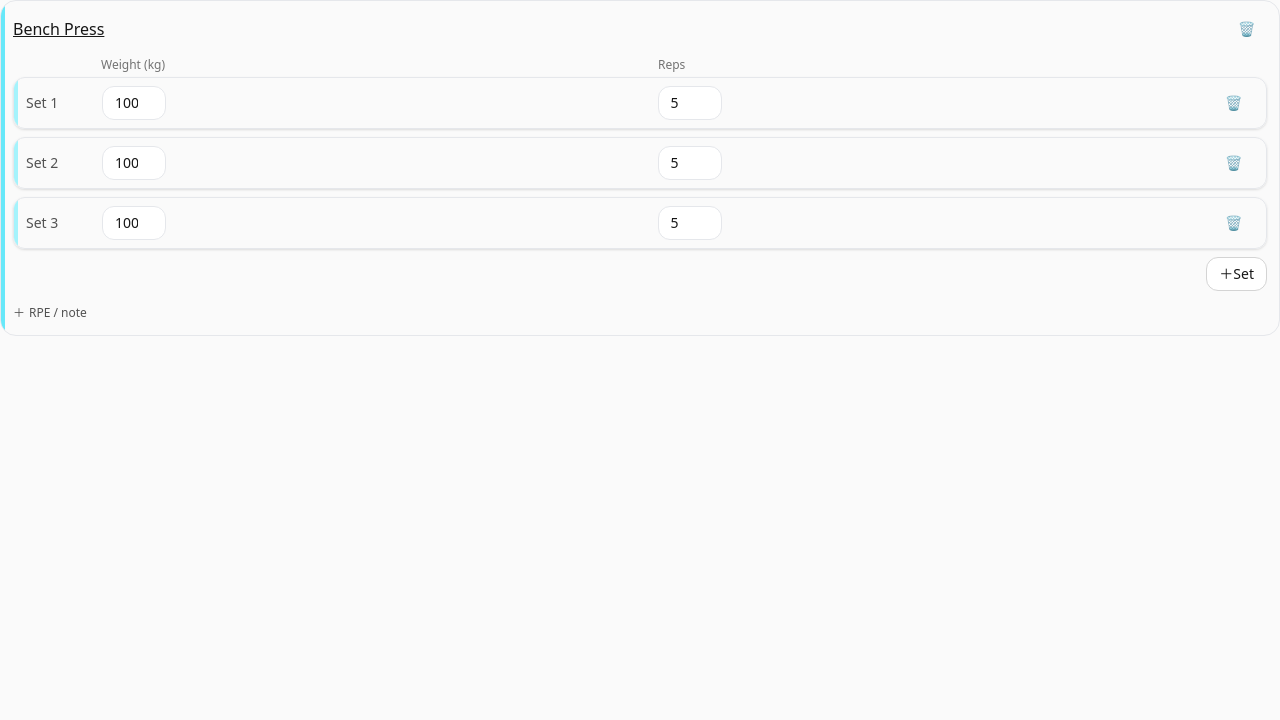
Test: WorkoutExerciseEditor › deletes a set through the confirm dialog and renumbers the rest
The width and height of the screenshot is (1280, 720).
What coordinates should you click on to do the following:
click the 2nd button "🗑"
I would click on:
 (1234, 103)
Its box is [1213,87,1254,119].
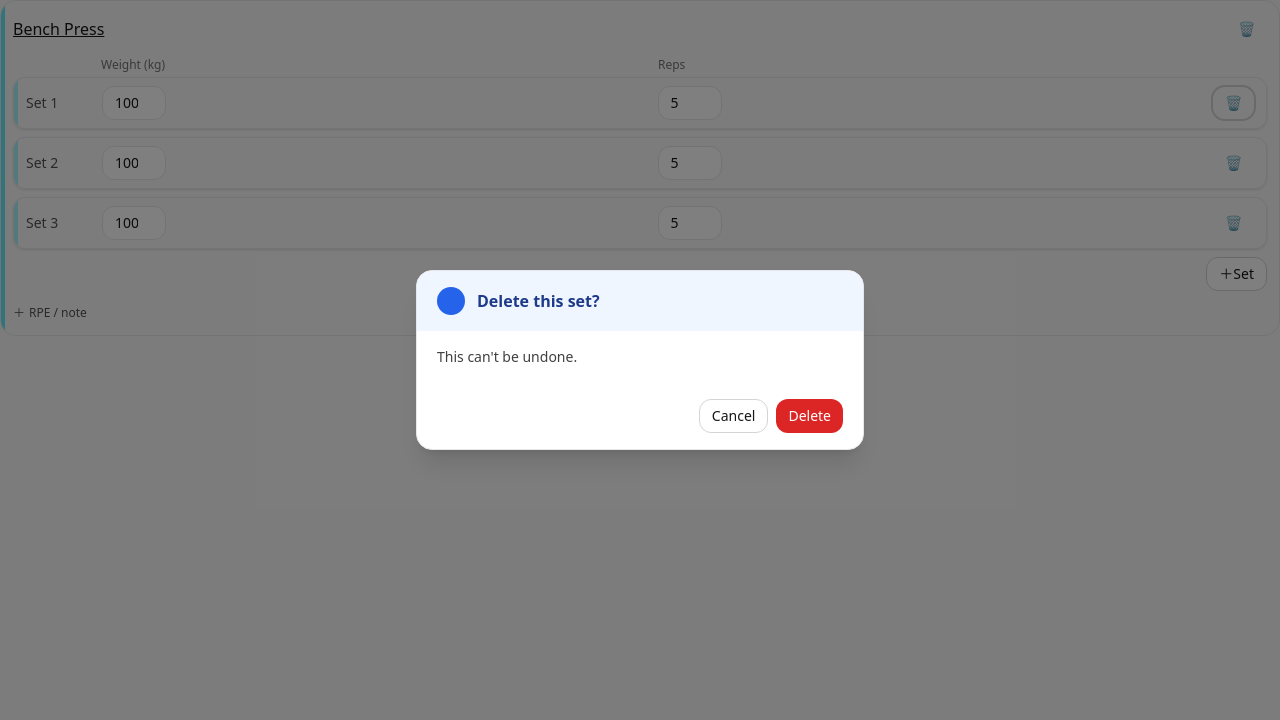
Now the text "Delete this set?" is shown, box [477,289,600,313]
What coordinates should you click on to do the following:
click the button "Delete"
I would click on:
 (810, 416)
Its box is [776,399,843,433].
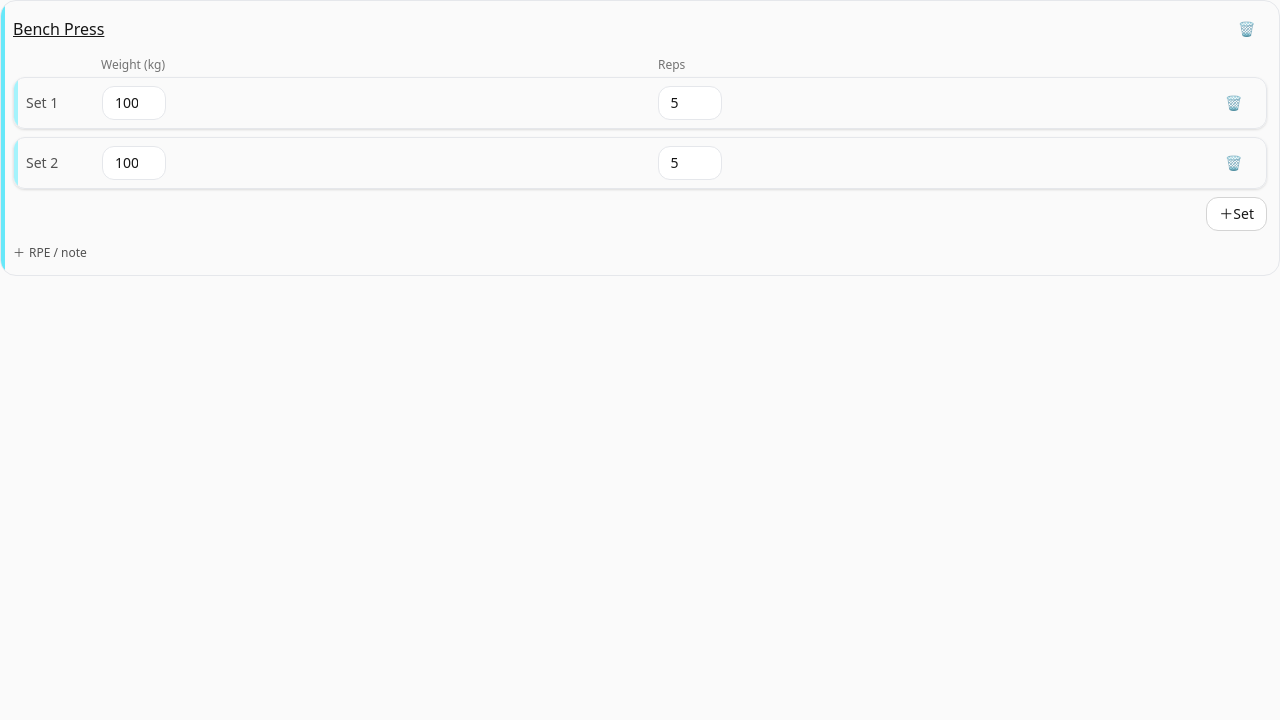
Now the text "Set 3" is gone
